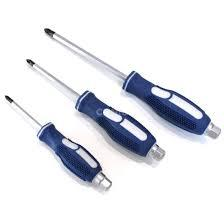screwdriver: (43, 27, 223, 139), (25, 57, 165, 165), (3, 93, 112, 191)
